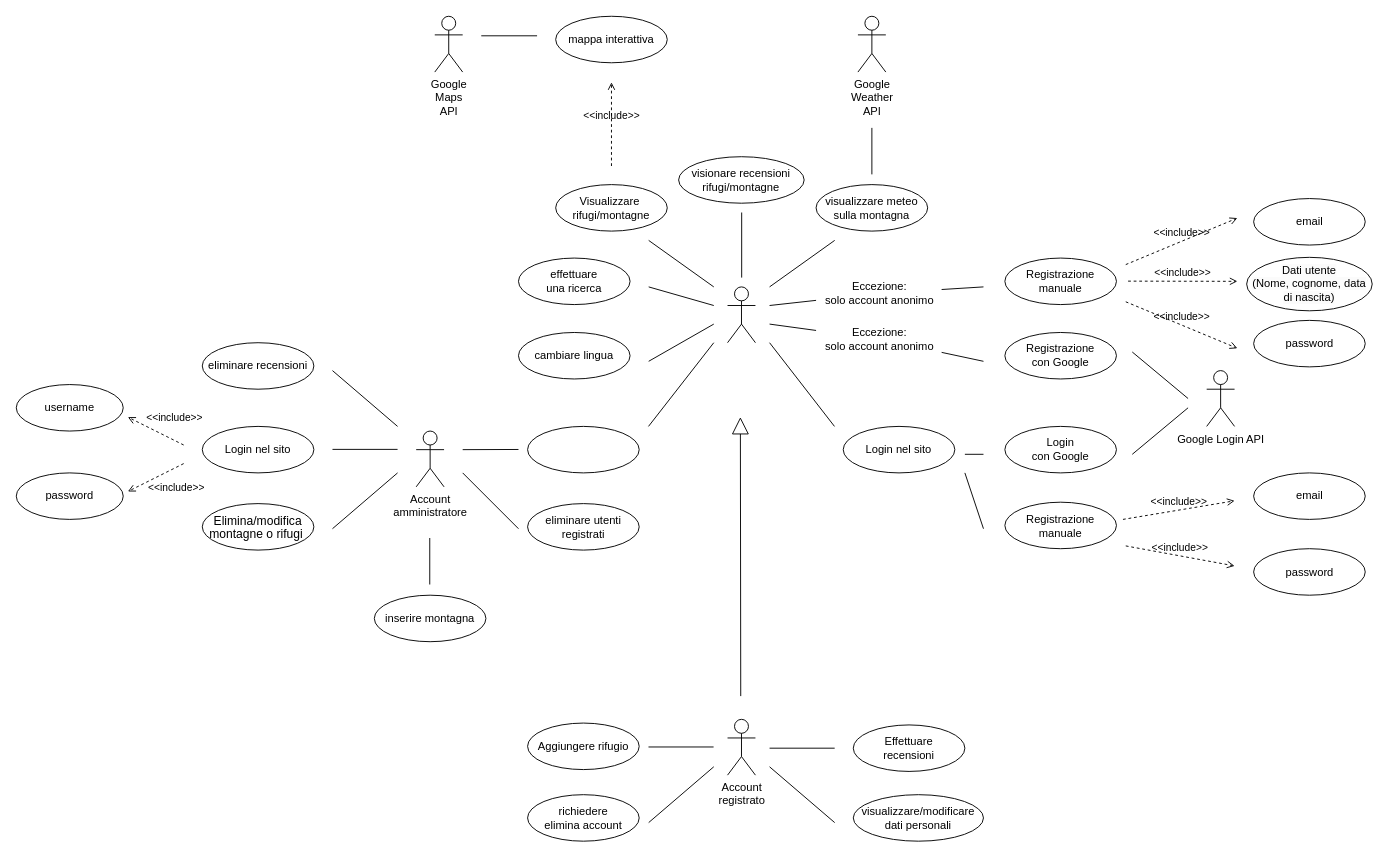
Image size: 1388x857. Some labels were removed from this diagram. The centre of each missing label's shape, as x and y in pixels:
"Account anonimo" goes at pixel 741 314.
"supporto" goes at pixel 583 449.
